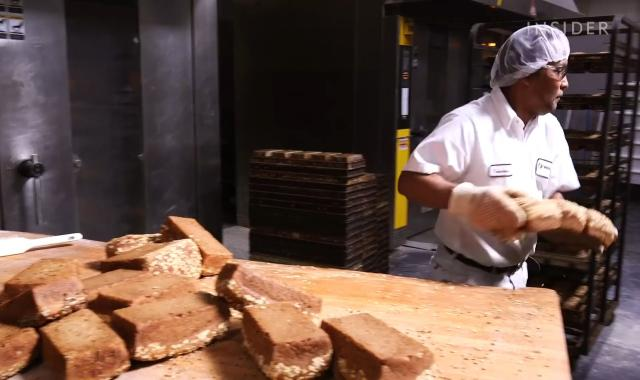hairnet: (484, 23, 572, 89)
